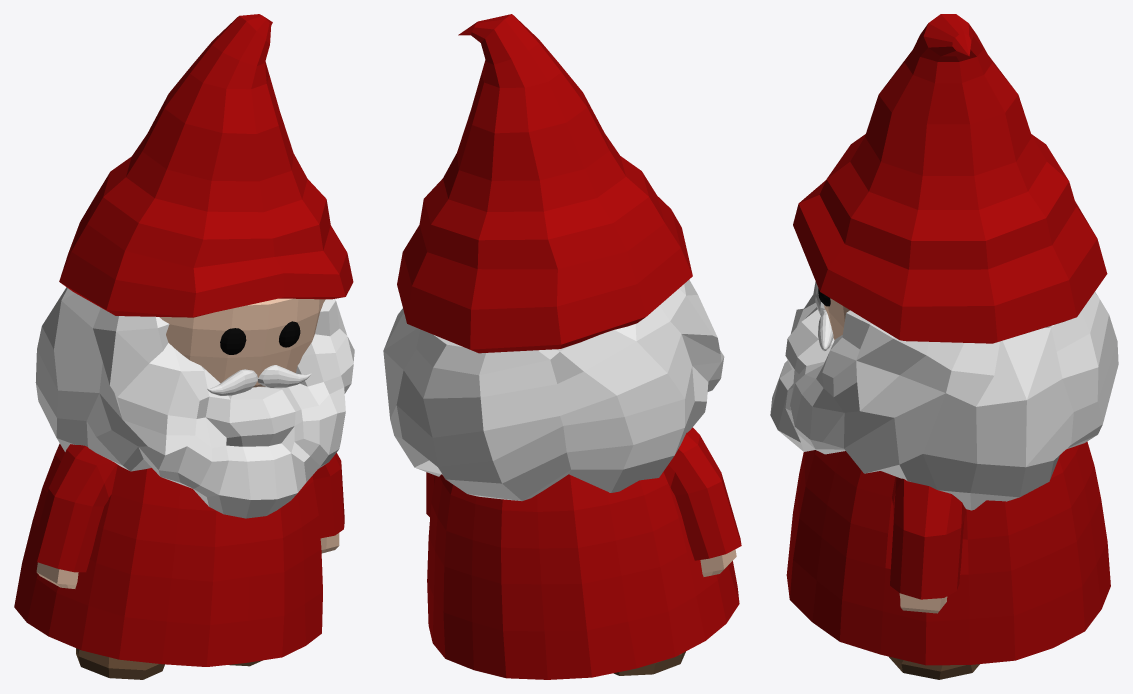
The model's file is red_gnome_animated.fbx.
The picture shows the model from 3 angles, left to right: view 1: azimuth 30°, elevation 25°; view 2: azimuth 150°, elevation 25°; view 3: azimuth 270°, elevation 25°; orthographic projection. The views are drawn at different scales.
Visible parts, largest first — view 1: gnome_combined; view 2: gnome_combined; view 3: gnome_combined.
Boxes of the visible parts, x1,y1,x2,y2 form: gnome_combined: (14, 14, 354, 679); gnome_combined: (383, 14, 741, 679); gnome_combined: (770, 14, 1118, 679).
Size of the model in its own units: 11.03 by 21 by 10.08.
